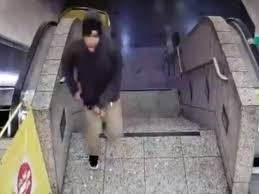Person: (58, 10, 130, 175)
